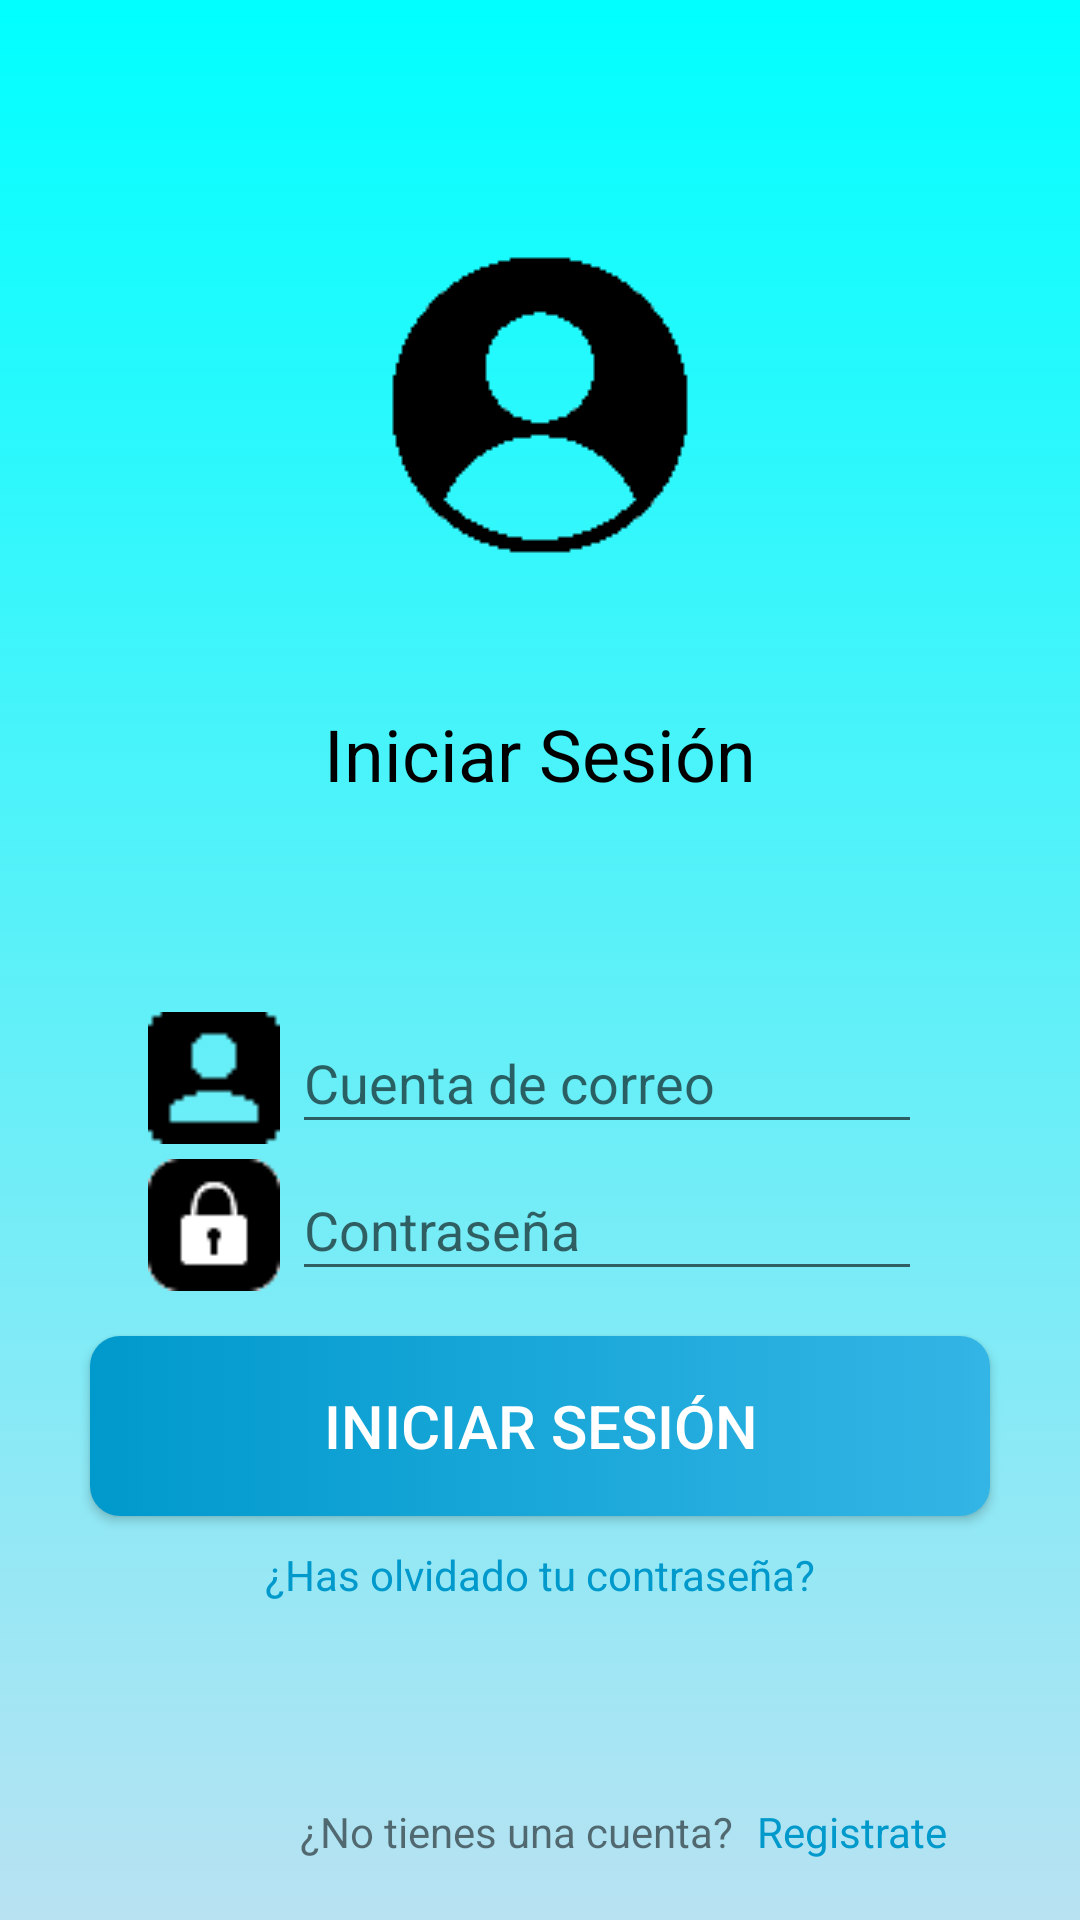

Named icons in this screenshot (1080w x 1920h) and their centers, point (x, y):
login: point (540, 406)
login user: point (214, 1078)
password: point (214, 1225)
